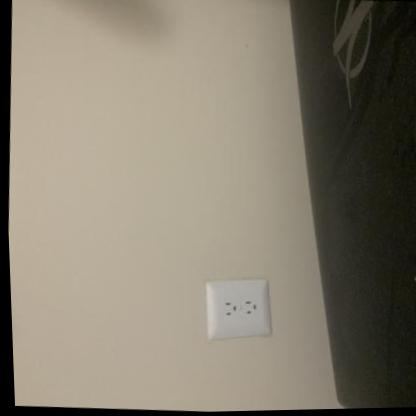OUTLET: (202, 277, 272, 339)
